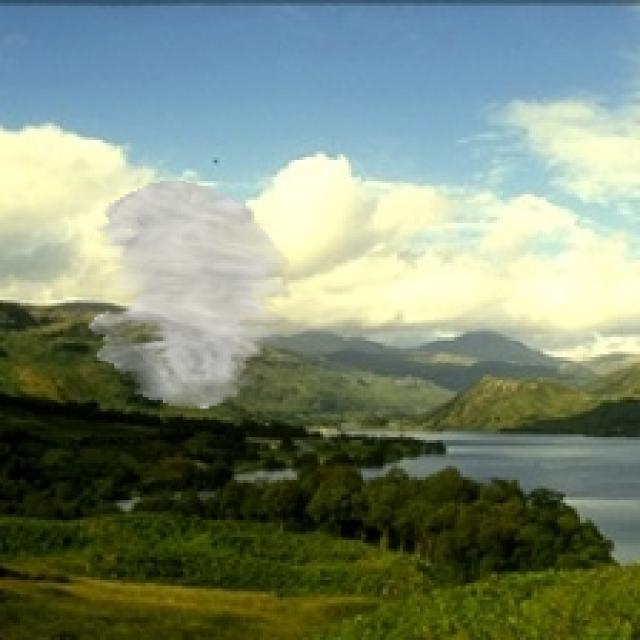smoke: (88, 180, 292, 409)
